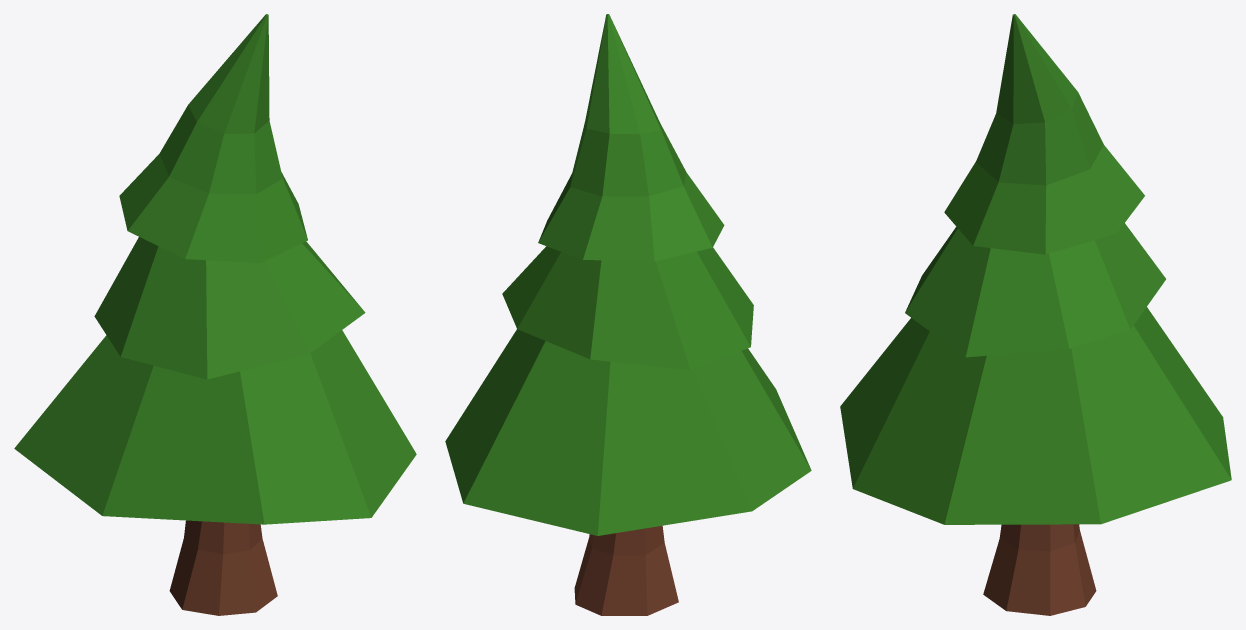
Rendered from PineTree_Adult.fbx.
The picture shows the model from 3 angles, left to right: view 1: azimuth 30°, elevation 25°; view 2: azimuth 150°, elevation 25°; view 3: azimuth 270°, elevation 25°; orthographic projection. The views are drawn at different scales.
Visible parts, largest first — view 1: Cylinder; view 2: Cylinder; view 3: Cylinder.
Part boxes in pixels (x1,y1,x2,y2): Cylinder: (14,14,416,615); Cylinder: (445,14,811,615); Cylinder: (840,14,1231,615).
Size of the model in its own units: 693 by 1183 by 708.
